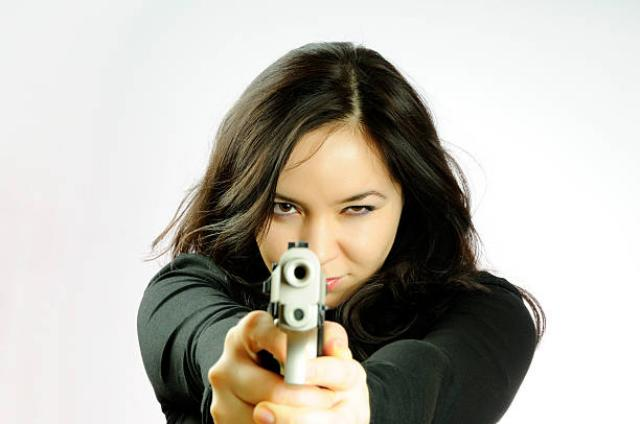handgun: (261, 236, 333, 406)
